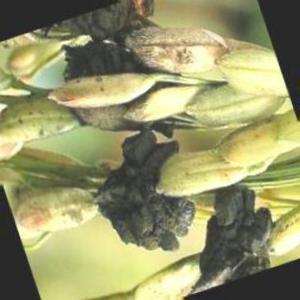Leaf_Scald: (64, 0, 137, 86), (110, 134, 170, 234), (208, 187, 266, 290), (125, 197, 199, 252)
